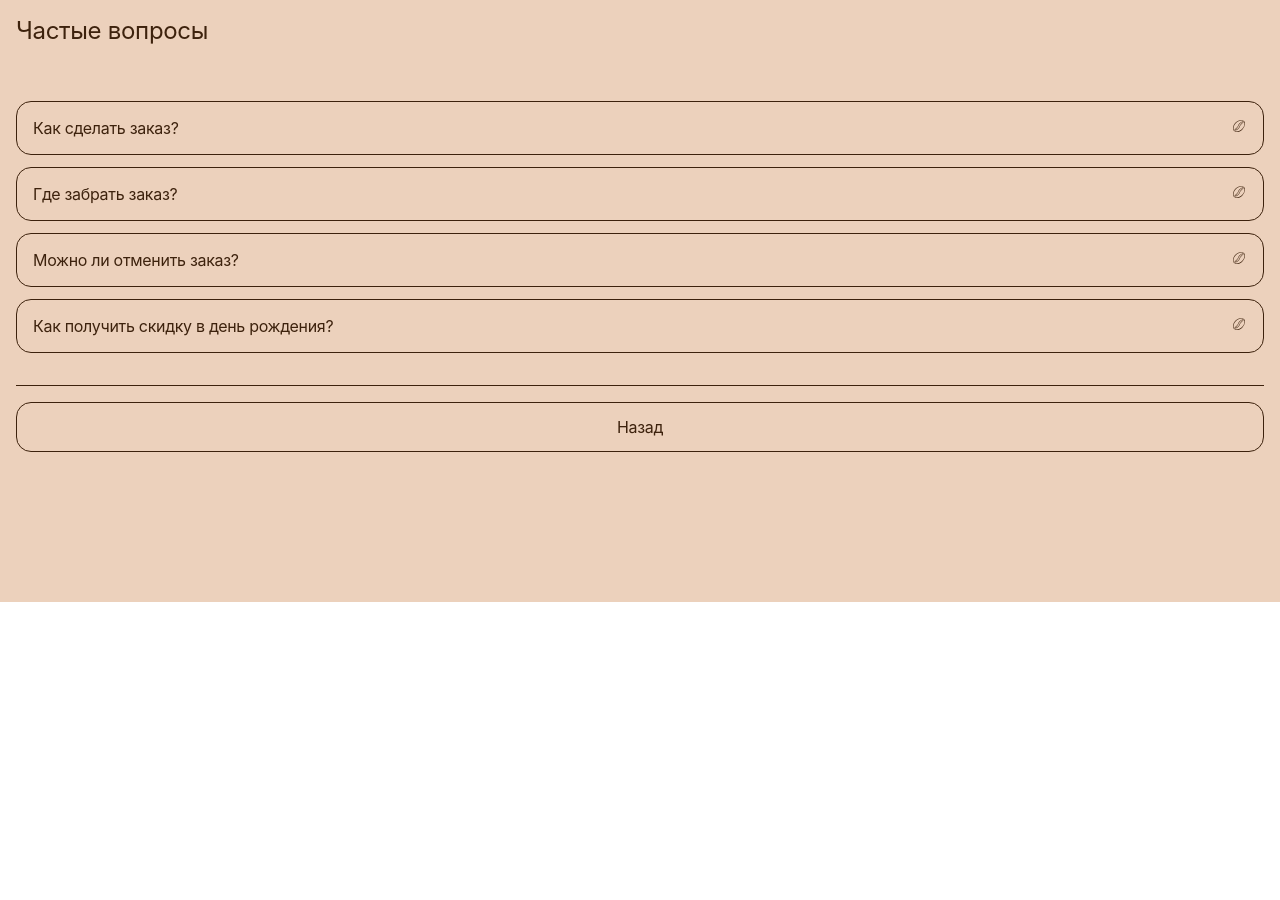
SupportFAQ component › Открытие нового вопроса закрывает предыдущий ответ
Click the text "Как сделать заказ?" at [106, 128], box top-left (33, 118), bottom-right (178, 138)
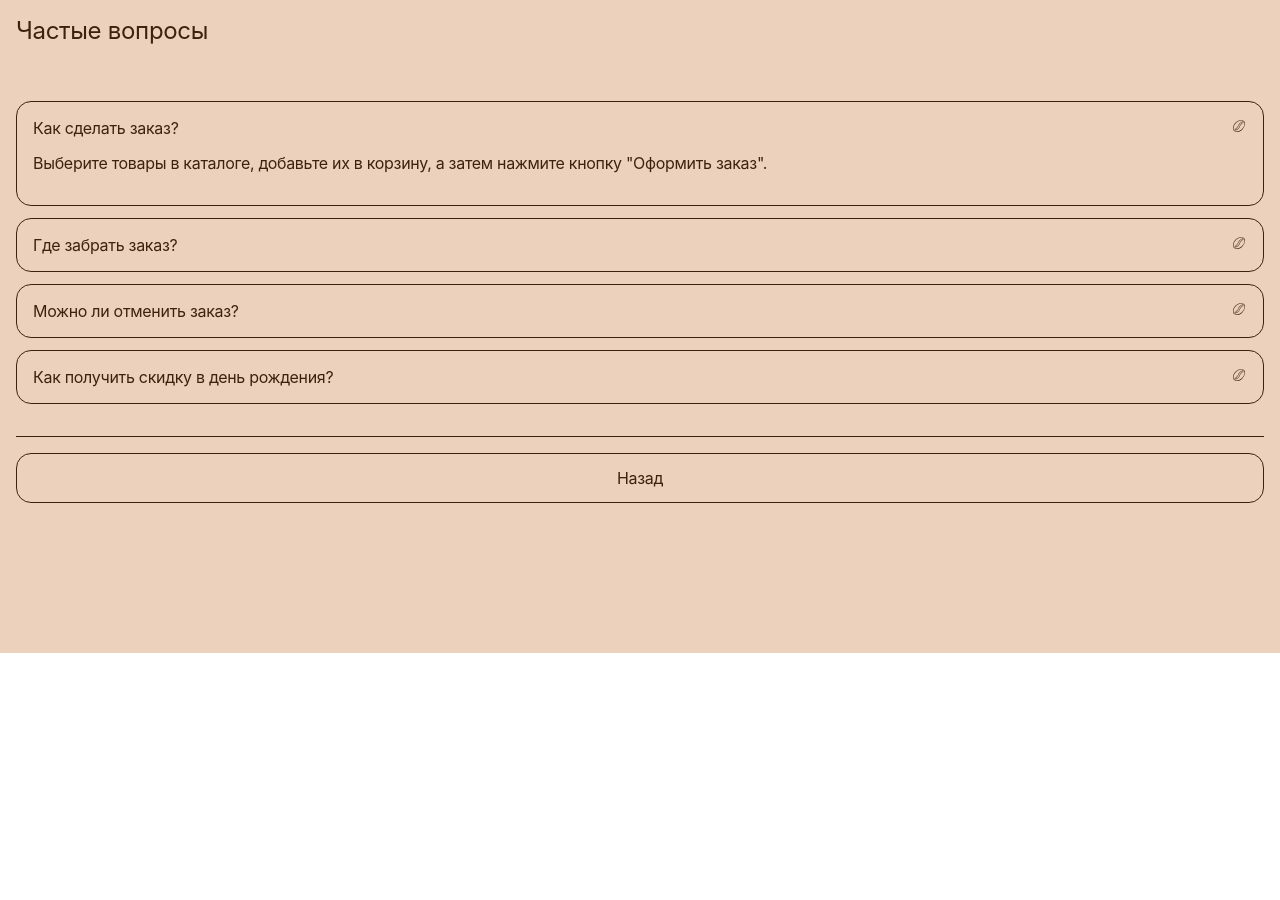
Expected: the text "Выберите товары в каталоге" is shown, top-left (33, 153), bottom-right (767, 173)
Click the text "Где забрать заказ?" at [105, 245], box top-left (33, 236), bottom-right (177, 254)
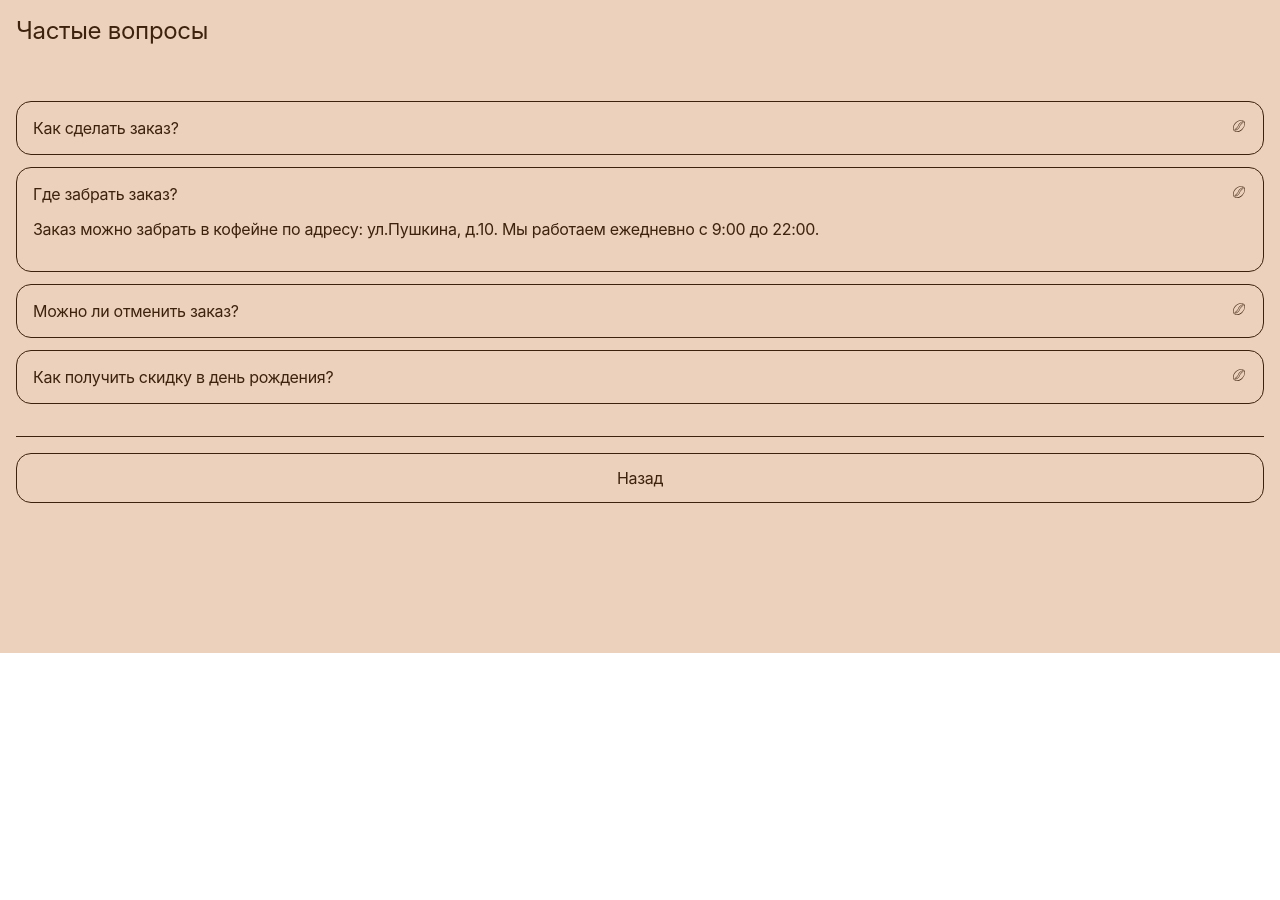
Expected: the text "Выберите товары в каталоге" is gone
Expected: the text "Заказ можно забрать" is shown, top-left (33, 219), bottom-right (819, 239)
